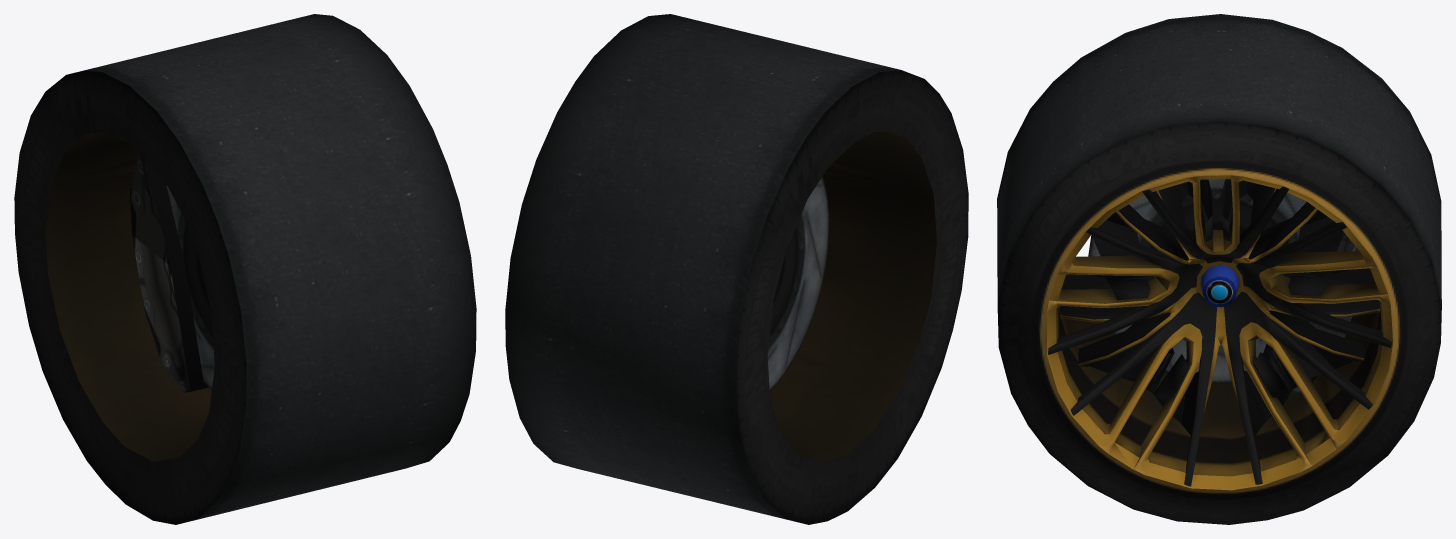
Rendered from WP04_wheelpack.glb.
The picture shows the model from 3 angles, left to right: view 1: azimuth 30°, elevation 25°; view 2: azimuth 150°, elevation 25°; view 3: azimuth 270°, elevation 25°; orthographic projection. The views are drawn at different scales.
Parts seen in each view (by area): view 1: MOD_ND_WP04_tyre, MOD_ND_WP04_rim, MOD_ND_WP04_brakes; view 2: MOD_ND_WP04_tyre, MOD_ND_WP04_rim, MOD_ND_WP04_brakes; view 3: MOD_ND_WP04_tyre, MOD_ND_WP04_rim, MOD_ND_WP04_brakes.
Part boxes in pixels (box(x1,y1,x2,y2)): MOD_ND_WP04_tyre: box(14, 14, 476, 524); MOD_ND_WP04_rim: box(45, 132, 211, 461); MOD_ND_WP04_brakes: box(130, 152, 214, 392); MOD_ND_WP04_tyre: box(505, 14, 968, 524); MOD_ND_WP04_rim: box(769, 131, 936, 462); MOD_ND_WP04_brakes: box(767, 176, 829, 391); MOD_ND_WP04_tyre: box(997, 14, 1441, 524); MOD_ND_WP04_rim: box(1047, 175, 1392, 490); MOD_ND_WP04_brakes: box(1088, 179, 1358, 395).
Bounding box in the file's own units: 0.3873 × 0.622 × 0.6216.
Materials: 2 (2 with a texture image).
